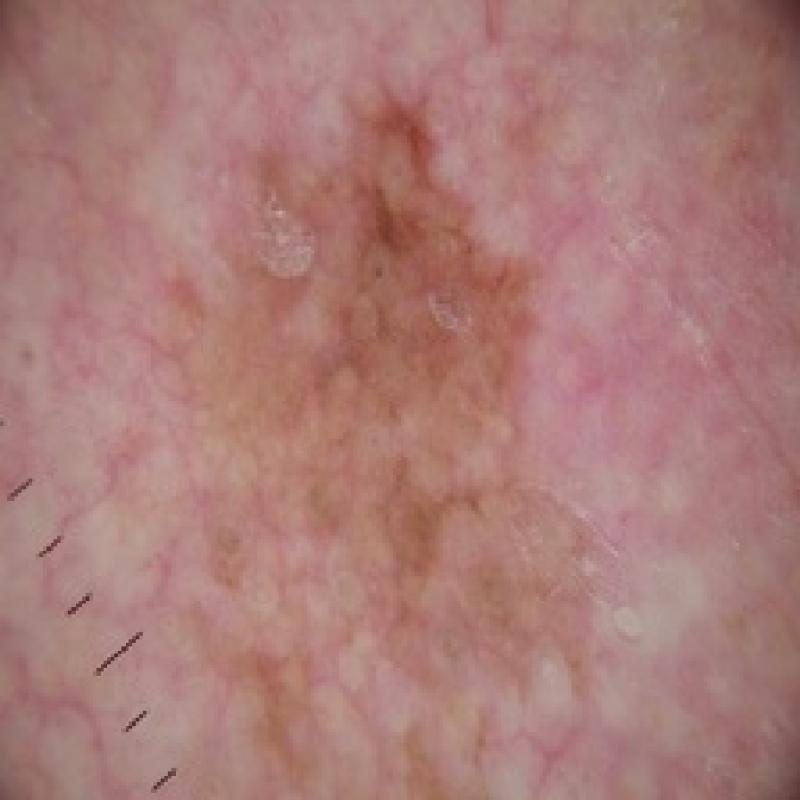malignant: (15, 25, 685, 753)
